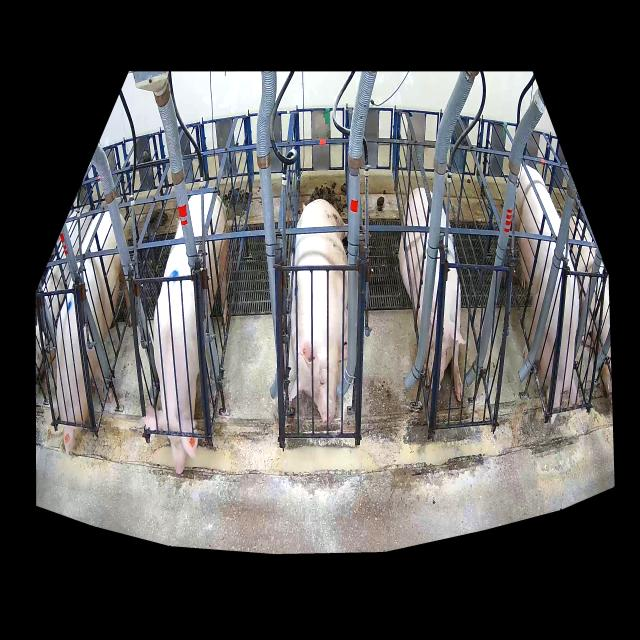pig: (138, 193, 228, 474), (54, 211, 132, 458), (511, 164, 579, 412), (399, 187, 467, 402), (288, 199, 348, 425)
